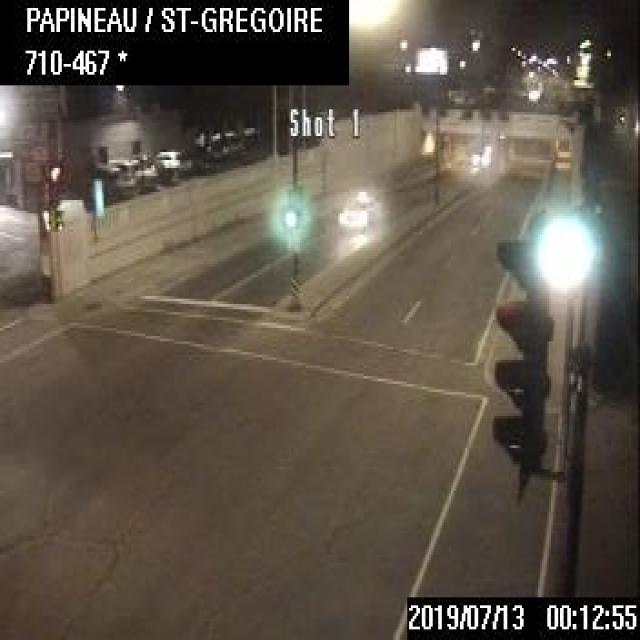vehicle: (88, 155, 136, 193), (336, 190, 380, 229), (153, 147, 190, 175)
